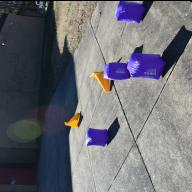cone: (90, 70, 110, 92), (64, 112, 80, 127)
cube: (127, 52, 167, 78), (114, 1, 146, 22), (104, 62, 130, 80), (85, 127, 109, 146)
